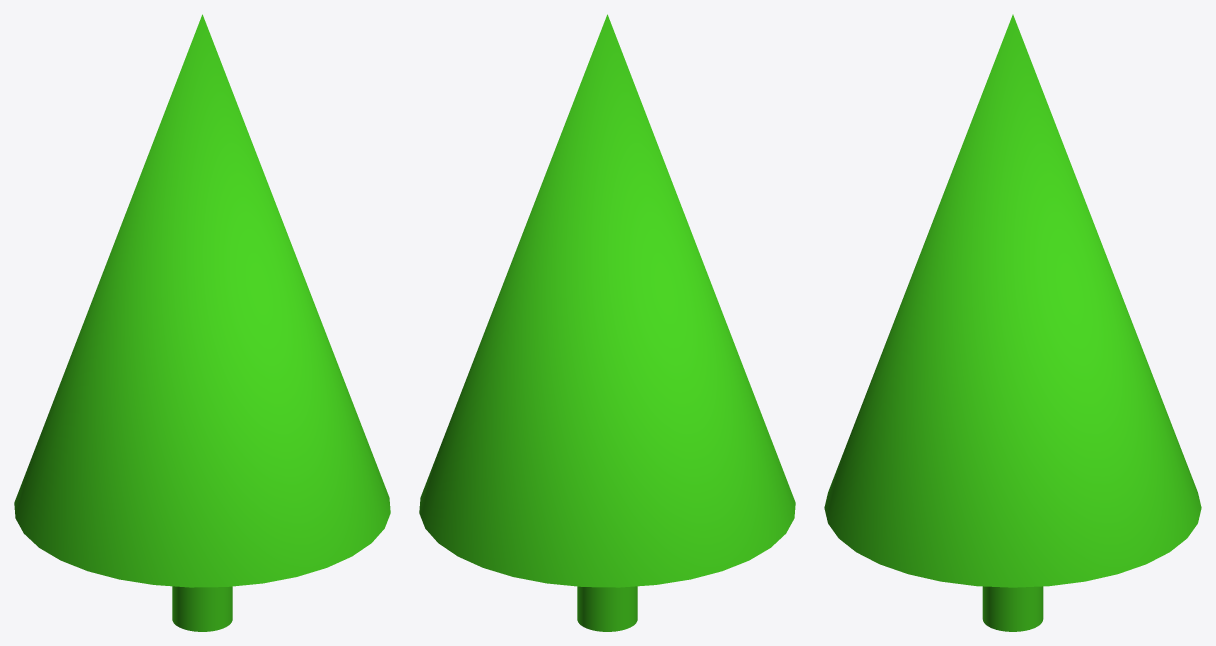
File: Tree.fbx
3 renders of one model, left to right at view 1: azimuth 30°, elevation 25°; view 2: azimuth 150°, elevation 25°; view 3: azimuth 270°, elevation 25°, orthographic.
Visible parts, largest first — view 1: Cone; view 2: Cone; view 3: Cone.
Part boxes in pixels (x1,y1,x2,y2): Cone: (14, 14, 390, 631); Cone: (419, 14, 795, 631); Cone: (824, 14, 1201, 631).
Size of the model in its own units: 2 by 3.54 by 2.
